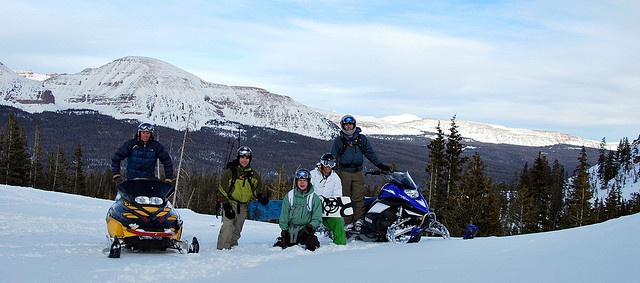non-vehicle: (105, 178, 200, 257), (361, 166, 436, 241)
